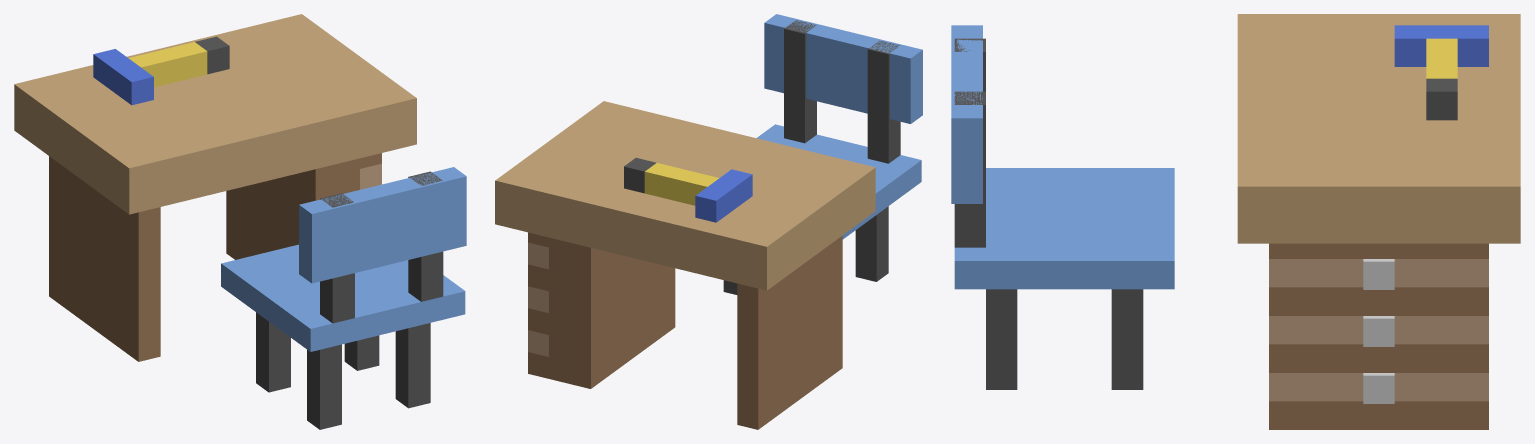
File: table-chair.fbx
The picture shows the model from 3 angles, left to right: view 1: azimuth 30°, elevation 25°; view 2: azimuth 150°, elevation 25°; view 3: azimuth 270°, elevation 25°; orthographic projection. The views are drawn at different scales.
Parts seen in each view (by area): view 1: Cube; view 2: Cube; view 3: Cube.
Part boxes in pixels (x1,y1,x2,y2): Cube: (14,14,466,429); Cube: (495,14,922,429); Cube: (951,14,1520,429).
Bounding box in the file's own units: 195 × 150 × 272.
